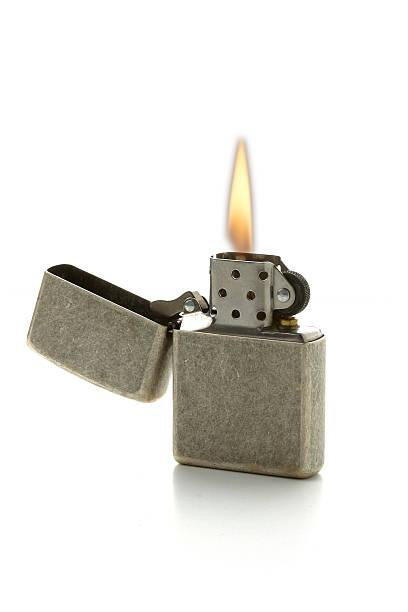Fire: (223, 136, 261, 258)
